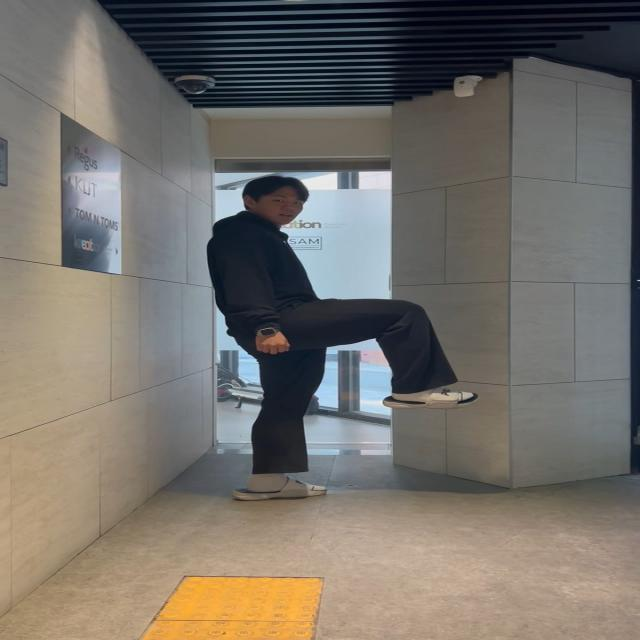knee: (236, 284, 488, 417)
